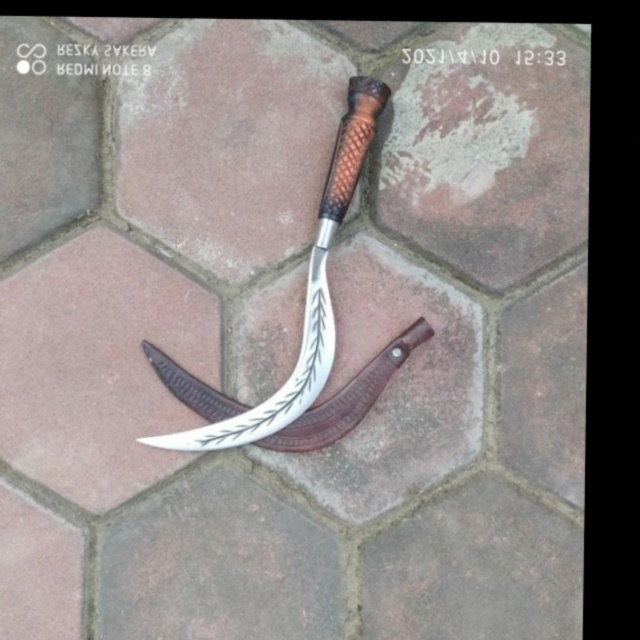Sharp-Object: (145, 77, 401, 470)
